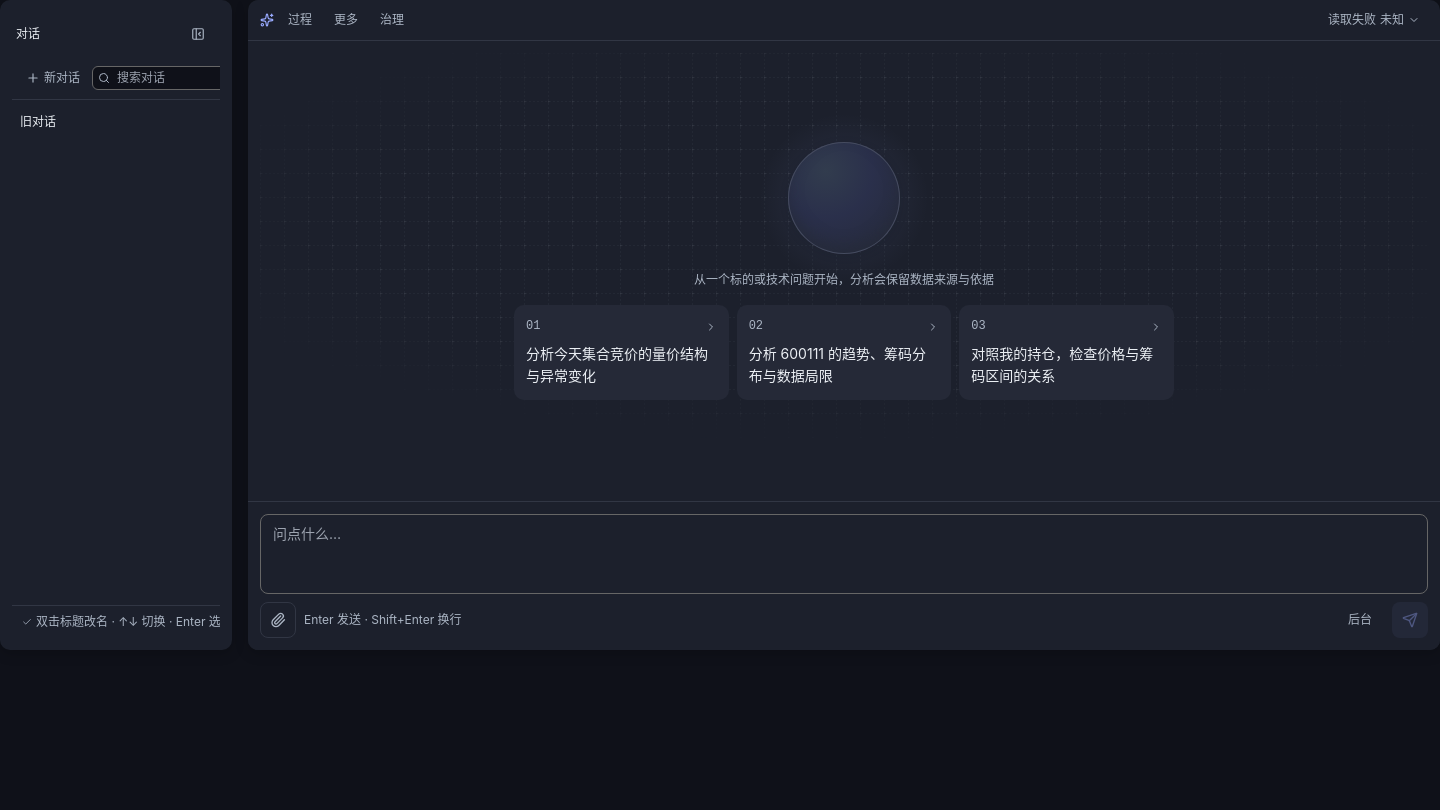
Test: 并发不串消息 › 流式途中切到别的会话：旧流的 delta/终稿不写进新会话
The width and height of the screenshot is (1440, 810).
Check: the button named "发送" is shown, box [1392,602,1428,638]
Type "600111 怎么样" into the text box with placeholder "问点什么…" at x=844, y=554, box [260,514,1428,594]
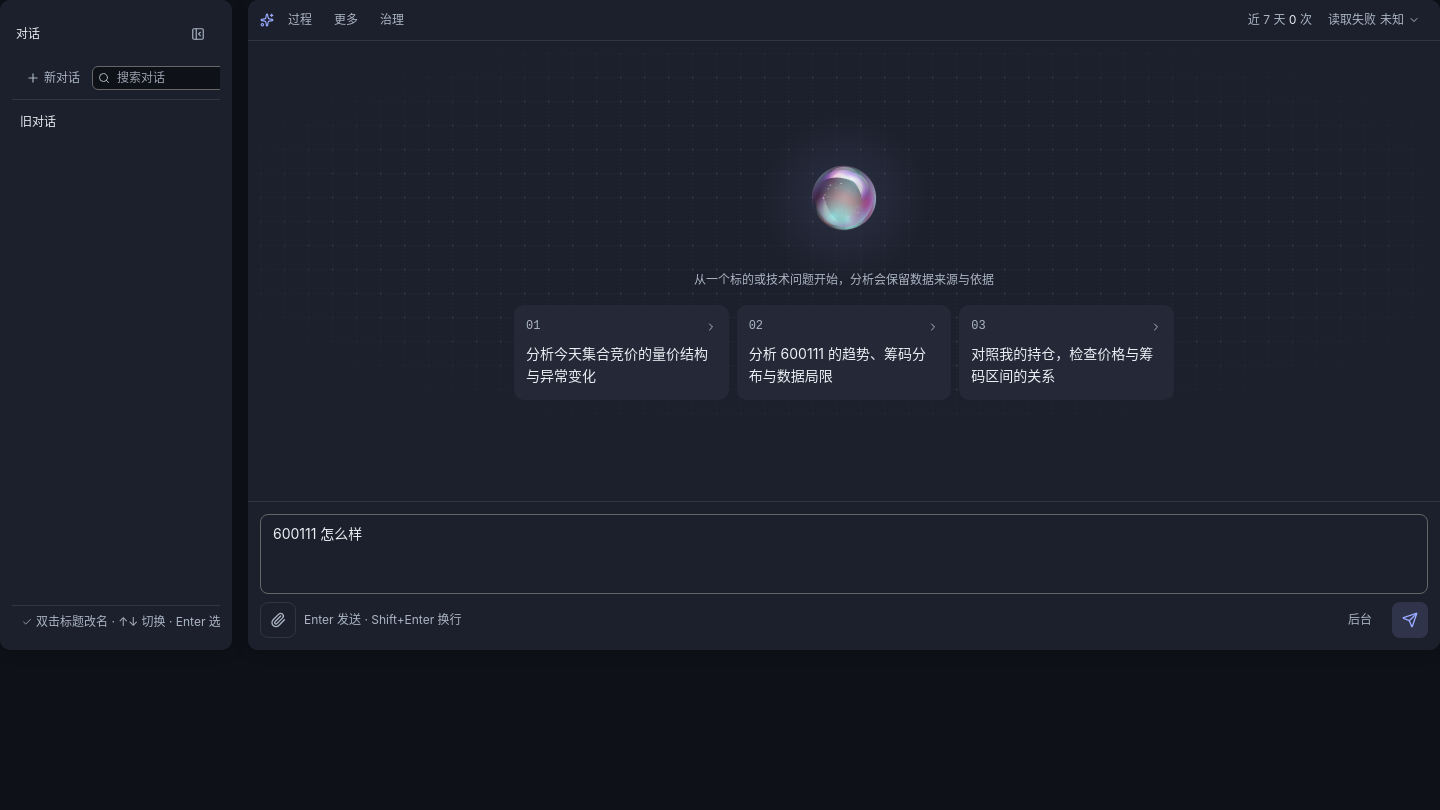
Click the button named "发送" at x=1410, y=620, box [1392,602,1428,638]
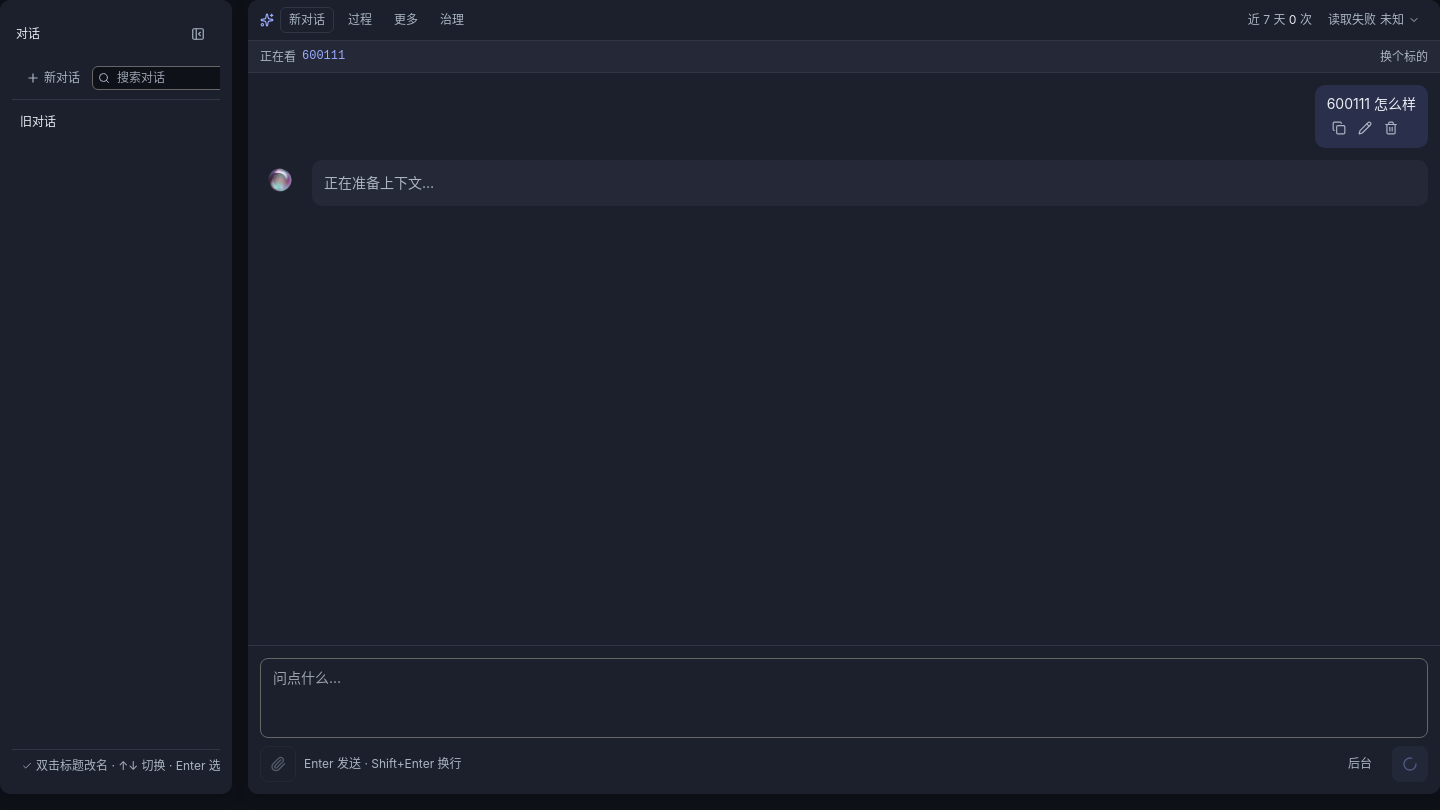
Check: the button named "发送" is shown, box [1392,746,1428,782]
Click the button with test id "copilot-conv-title-9" at x=126, y=121, box [20,112,233,131]
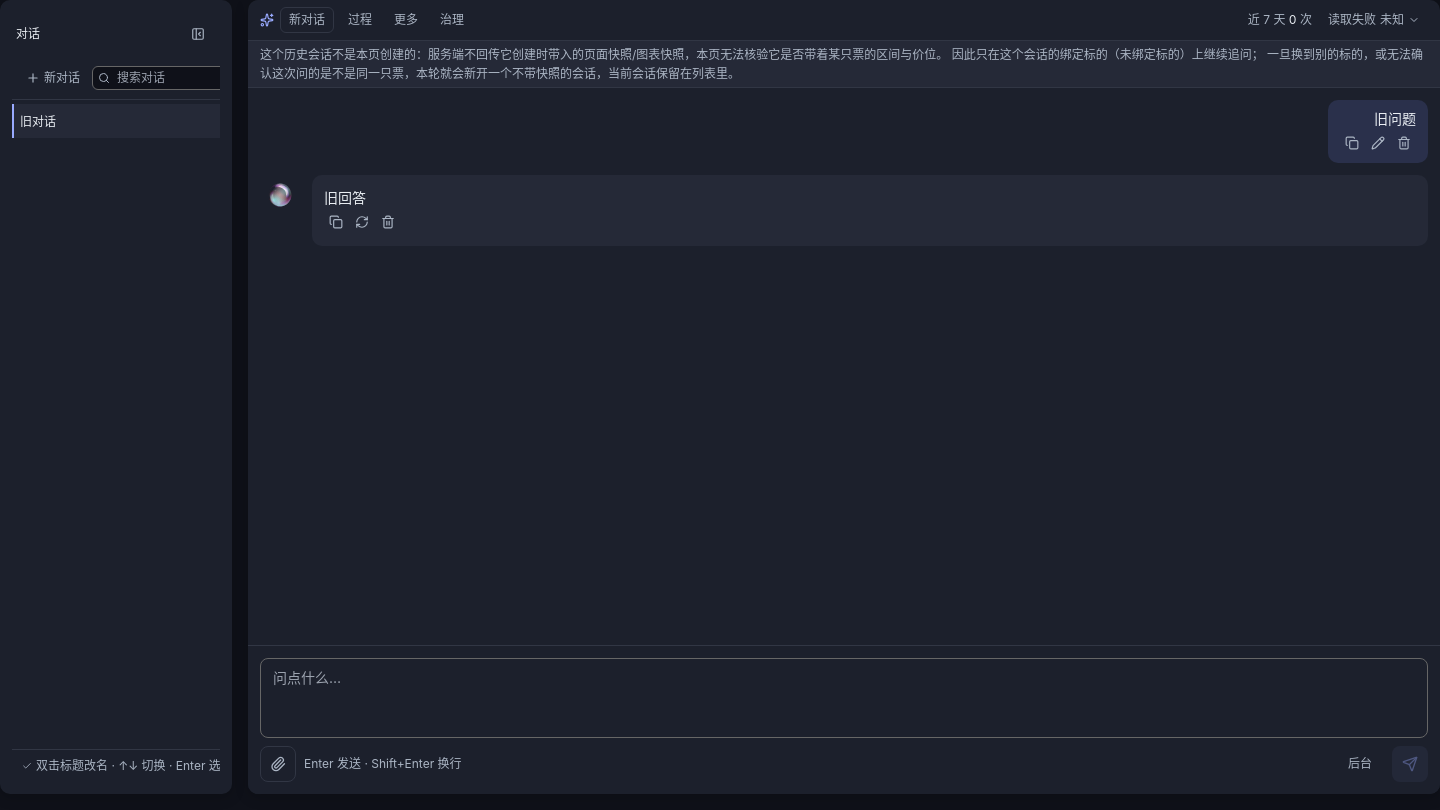
Check: the text "旧回答" is shown, box [324,189,366,206]
